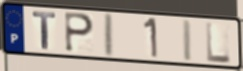1: (142, 17, 159, 60)
I: (103, 12, 116, 59), (182, 18, 194, 63)
L: (204, 21, 233, 65)
P: (64, 11, 96, 55)
T: (31, 10, 57, 51)
